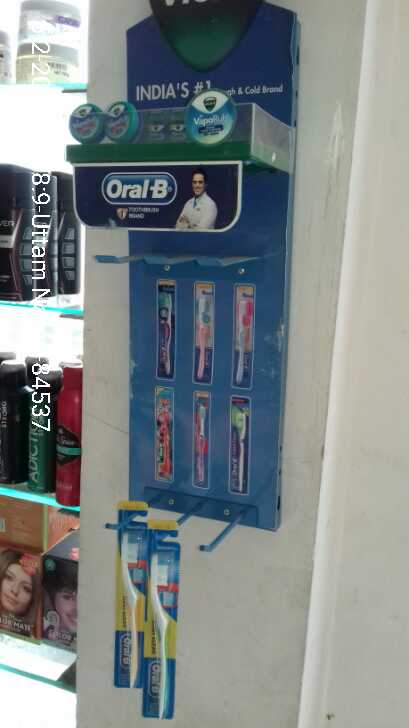pharmacy: (144, 543, 180, 718), (48, 93, 148, 151), (112, 527, 144, 691)
